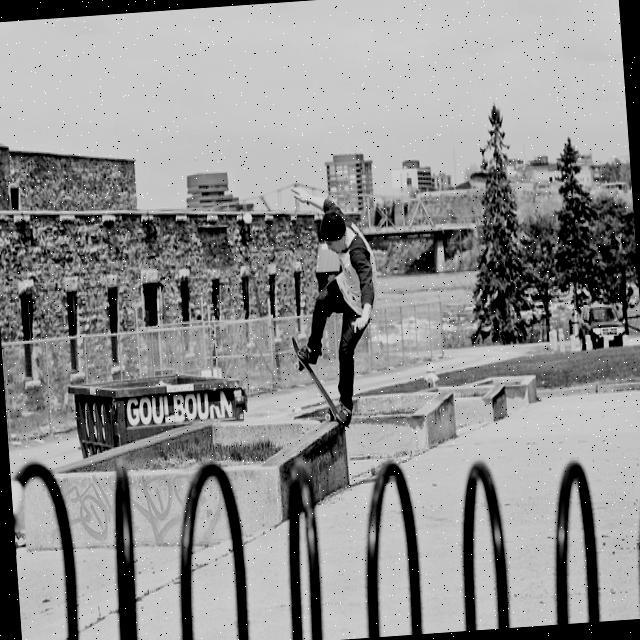fire_hydrant: (422, 362, 439, 388)
